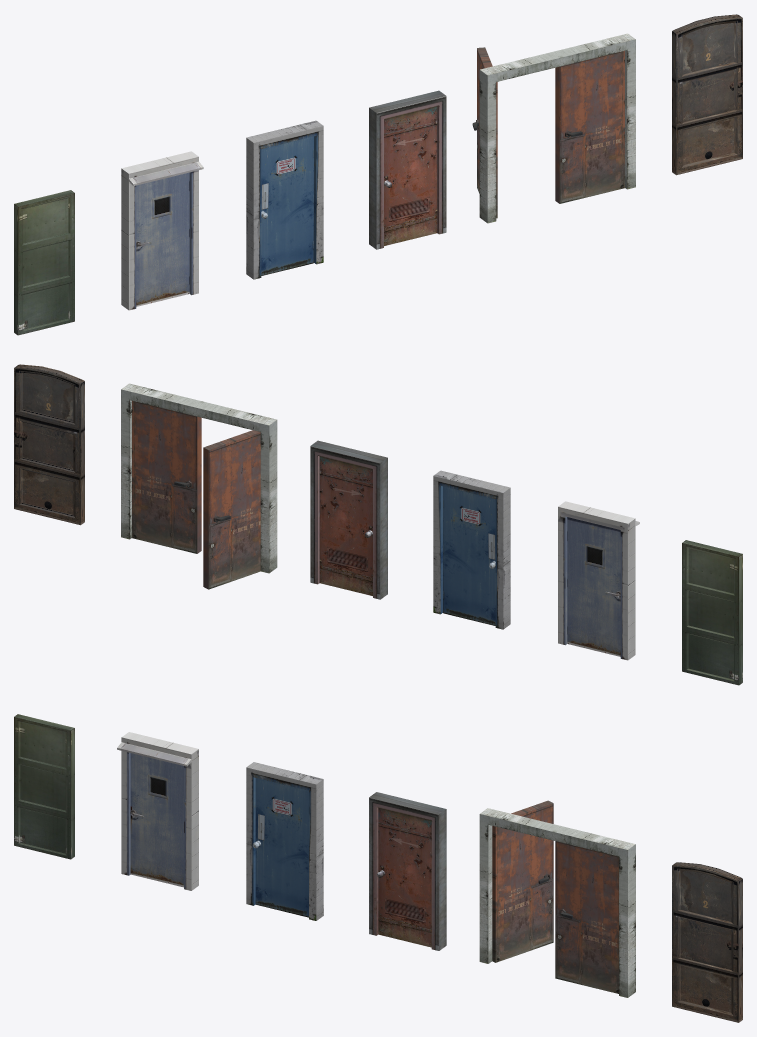
File: low-poly_psx_style_industrial_metal_doors_pack.glb
3 renders of one model, top to bottom at view 1: azimuth 30°, elevation 25°; view 2: azimuth 150°, elevation 25°; view 3: azimuth 330°, elevation 25°, orthographic.
Parts seen in each view (by area): view 1: Metal Door_002, Metal Door_007, Metal Door_001, Metal Door_003, Metal Door_005, Metal Doorframe_005, Metal Door_004, Metal Doorframe_003, Metal Doorframe_002.001, Metal Doorframe_002, Metal Door_007.001; view 2: Metal Door_002, Metal Door_007, Metal Door_007.001, Metal Door_001, Metal Door_003, Metal Door_004, Metal Door_005, Metal Doorframe_005, Metal Doorframe_003, Metal Doorframe_002.001, Metal Doorframe_002; view 3: Metal Door_002, Metal Door_007, Metal Door_001, Metal Door_007.001, Metal Doorframe_005, Metal Door_005, Metal Door_003, Metal Door_004, Metal Doorframe_003, Metal Doorframe_002, Metal Doorframe_002.001.
Part boxes in pixels (box(x1,y1,x2,y2)): Metal Door_002: box(672, 14, 742, 175); Metal Door_007: box(555, 51, 624, 203); Metal Door_001: box(14, 190, 74, 335); Metal Door_003: box(384, 106, 437, 245); Metal Door_005: box(261, 136, 313, 275); Metal Doorframe_005: box(479, 33, 635, 223); Metal Door_004: box(136, 172, 189, 306); Metal Doorframe_003: box(121, 151, 203, 310); Metal Doorframe_002.001: box(246, 120, 323, 279); Metal Doorframe_002: box(369, 90, 446, 249); Metal Door_007.001: box(477, 47, 497, 218); Metal Door_002: box(14, 364, 84, 525); Metal Door_007: box(132, 401, 201, 553); Metal Door_007.001: box(203, 430, 260, 589); Metal Door_001: box(682, 540, 742, 685); Metal Door_003: box(319, 456, 372, 595); Metal Door_004: box(567, 517, 620, 656); Metal Door_005: box(443, 486, 495, 625); Metal Doorframe_005: box(121, 383, 277, 573); Metal Doorframe_003: box(558, 501, 639, 660); Metal Doorframe_002.001: box(433, 470, 510, 629); Metal Doorframe_002: box(310, 440, 387, 599); Metal Door_002: box(672, 862, 742, 1022); Metal Door_007: box(555, 841, 618, 993); Metal Door_001: box(14, 714, 74, 859); Metal Door_007.001: box(492, 800, 553, 962); Metal Doorframe_005: box(479, 808, 635, 997); Metal Door_005: box(255, 778, 308, 917); Metal Door_003: box(378, 807, 431, 947); Metal Door_004: box(130, 753, 183, 887); Metal Doorframe_003: box(117, 732, 198, 890); Metal Doorframe_002: box(369, 792, 446, 950); Metal Doorframe_002.001: box(246, 762, 323, 920).
Bounding box in the file's own units: 11.09 × 2.16 × 1.17.
1 material, 1 textured.
